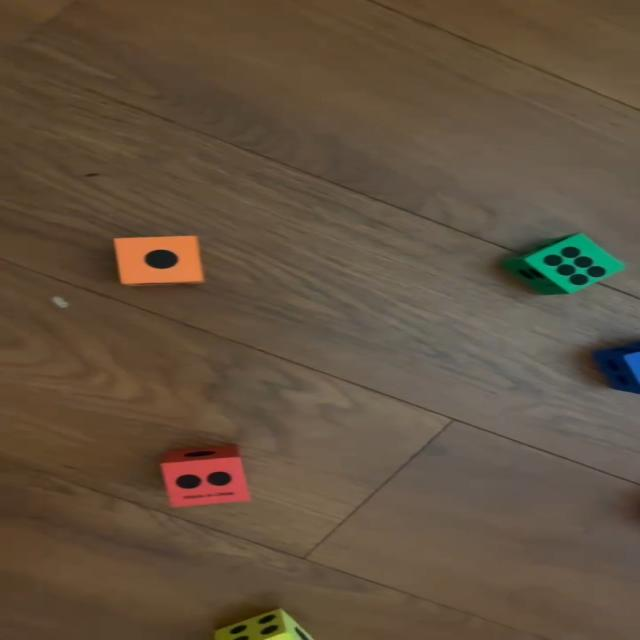blue_block: (592, 346, 640, 394)
red_block: (162, 446, 249, 507)
